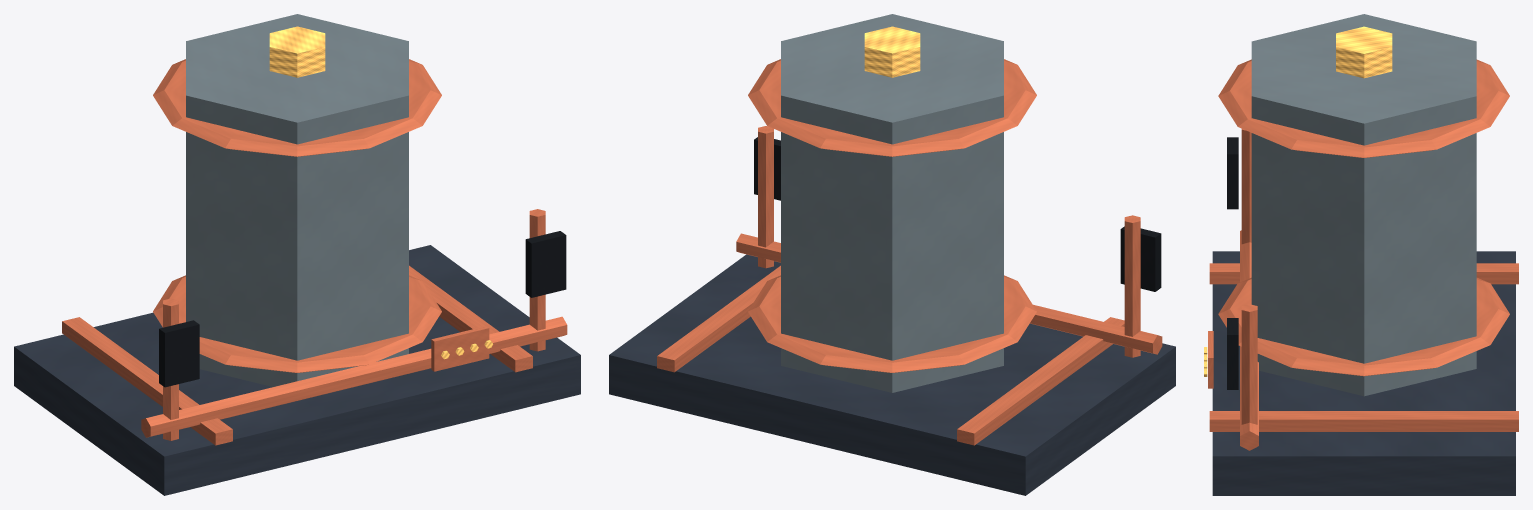
Rendered from atlas100-s023-a01.glb.
The picture shows the model from 3 angles, left to right: view 1: azimuth 30°, elevation 25°; view 2: azimuth 150°, elevation 25°; view 3: azimuth 270°, elevation 25°; orthographic projection.
Visible parts, largest first — view 1: atlas100-s023-a01:part-003, atlas100-s023-a01:part-000, atlas100-s023-a01:part-012, atlas100-s023-a01:part-005, atlas100-s023-a01:part-004, atlas100-s023-a01:part-001, atlas100-s023-a01:part-006, atlas100-s023-a01:part-011, atlas100-s023-a01:part-009, atlas100-s023-a01:part-002, atlas100-s023-a01:part-013, atlas100-s023-a01:part-010 (+1 smaller); view 2: atlas100-s023-a01:part-003, atlas100-s023-a01:part-000, atlas100-s023-a01:part-004, atlas100-s023-a01:part-005, atlas100-s023-a01:part-001, atlas100-s023-a01:part-012, atlas100-s023-a01:part-002, atlas100-s023-a01:part-006, atlas100-s023-a01:part-008, atlas100-s023-a01:part-010, atlas100-s023-a01:part-009, atlas100-s023-a01:part-011; view 3: atlas100-s023-a01:part-003, atlas100-s023-a01:part-000, atlas100-s023-a01:part-005, atlas100-s023-a01:part-004, atlas100-s023-a01:part-002, atlas100-s023-a01:part-006, atlas100-s023-a01:part-010, atlas100-s023-a01:part-001, atlas100-s023-a01:part-008, atlas100-s023-a01:part-012, atlas100-s023-a01:part-009, atlas100-s023-a01:part-011.
Part boxes in pixels (x1=…): atlas100-s023-a01:part-003: x1=186, y1=14, x2=408, y2=386; atlas100-s023-a01:part-000: x1=14, y1=245, x2=580, y2=495; atlas100-s023-a01:part-012: x1=141, y1=316, x2=567, y2=437; atlas100-s023-a01:part-005: x1=153, y1=59, x2=441, y2=156; atlas100-s023-a01:part-004: x1=153, y1=275, x2=441, y2=372; atlas100-s023-a01:part-001: x1=62, y1=317, x2=232, y2=445; atlas100-s023-a01:part-006: x1=269, y1=26, x2=325, y2=77; atlas100-s023-a01:part-011: x1=525, y1=231, x2=566, y2=297; atlas100-s023-a01:part-009: x1=159, y1=320, x2=199, y2=387; atlas100-s023-a01:part-002: x1=409, y1=265, x2=532, y2=372; atlas100-s023-a01:part-013: x1=431, y1=326, x2=489, y2=371; atlas100-s023-a01:part-010: x1=529, y1=209, x2=545, y2=351; atlas100-s023-a01:part-003: x1=781, y1=14, x2=1003, y2=392; atlas100-s023-a01:part-000: x1=609, y1=254, x2=1175, y2=495; atlas100-s023-a01:part-004: x1=748, y1=275, x2=1036, y2=372; atlas100-s023-a01:part-005: x1=748, y1=59, x2=1036, y2=156; atlas100-s023-a01:part-001: x1=957, y1=317, x2=1124, y2=445; atlas100-s023-a01:part-012: x1=736, y1=233, x2=1162, y2=354; atlas100-s023-a01:part-002: x1=657, y1=265, x2=780, y2=372; atlas100-s023-a01:part-006: x1=864, y1=26, x2=920, y2=77; atlas100-s023-a01:part-008: x1=1124, y1=215, x2=1140, y2=357; atlas100-s023-a01:part-010: x1=758, y1=126, x2=773, y2=268; atlas100-s023-a01:part-009: x1=1120, y1=226, x2=1161, y2=291; atlas100-s023-a01:part-011: x1=754, y1=137, x2=780, y2=200; atlas100-s023-a01:part-003: x1=1251, y1=14, x2=1476, y2=396; atlas100-s023-a01:part-000: x1=1212, y1=251, x2=1515, y2=495; atlas100-s023-a01:part-005: x1=1218, y1=59, x2=1509, y2=157; atlas100-s023-a01:part-004: x1=1218, y1=277, x2=1509, y2=376; atlas100-s023-a01:part-002: x1=1209, y1=411, x2=1518, y2=431; atlas100-s023-a01:part-006: x1=1336, y1=26, x2=1392, y2=78; atlas100-s023-a01:part-010: x1=1241, y1=304, x2=1257, y2=424; atlas100-s023-a01:part-001: x1=1209, y1=263, x2=1518, y2=284; atlas100-s023-a01:part-008: x1=1241, y1=129, x2=1251, y2=244; atlas100-s023-a01:part-012: x1=1240, y1=230, x2=1258, y2=450; atlas100-s023-a01:part-009: x1=1227, y1=137, x2=1238, y2=209; atlas100-s023-a01:part-011: x1=1227, y1=318, x2=1238, y2=389.
Bounding box in the file's own units: 2.88 × 2.31 × 1.87.
Materials: 5 (5 with a texture image).
